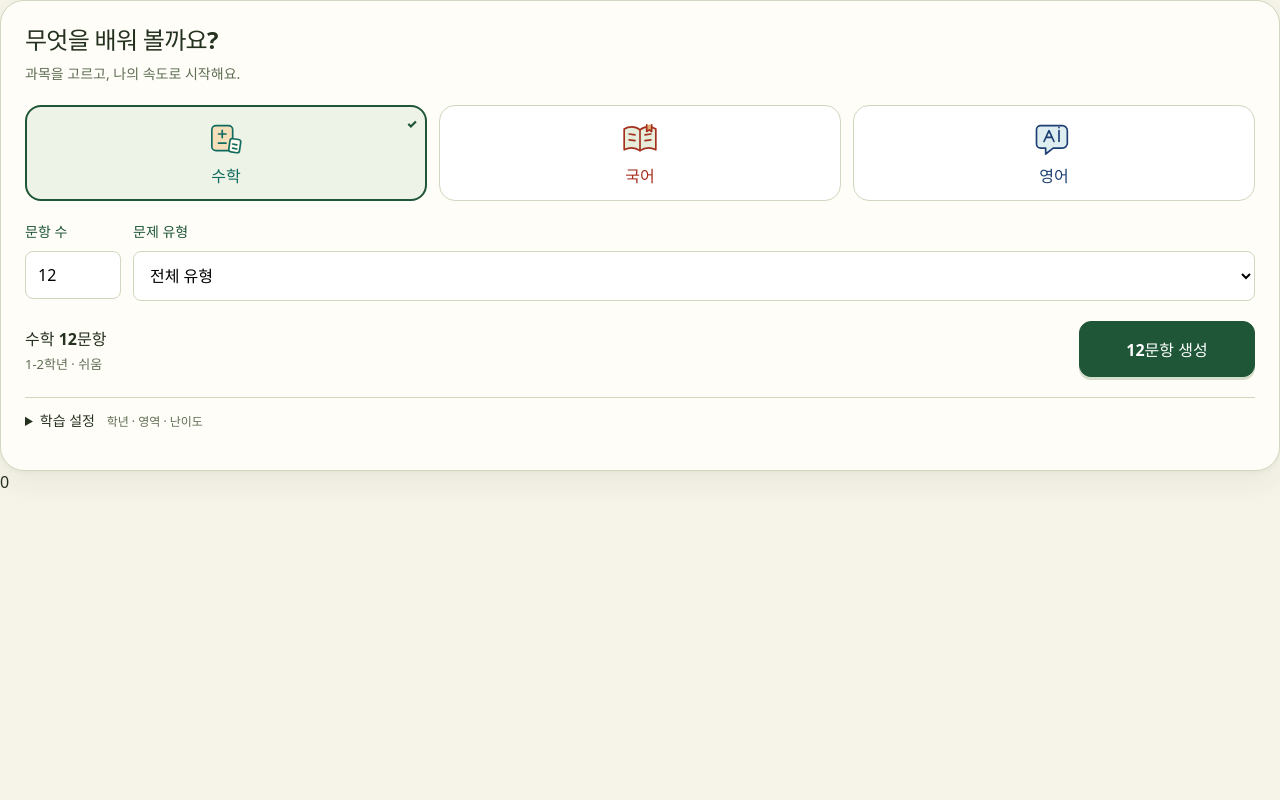
Test: settings use a closed native disclosure with twelve math questions and explicit large options
Expected: the element with class "dm-studio-settings" is shown, [25,397,1255,446]
What coordinates should you click on to do the following:
click the radio button labelled "국어"
I would click on:
 (640, 153)
Its box is [439,105,841,201].
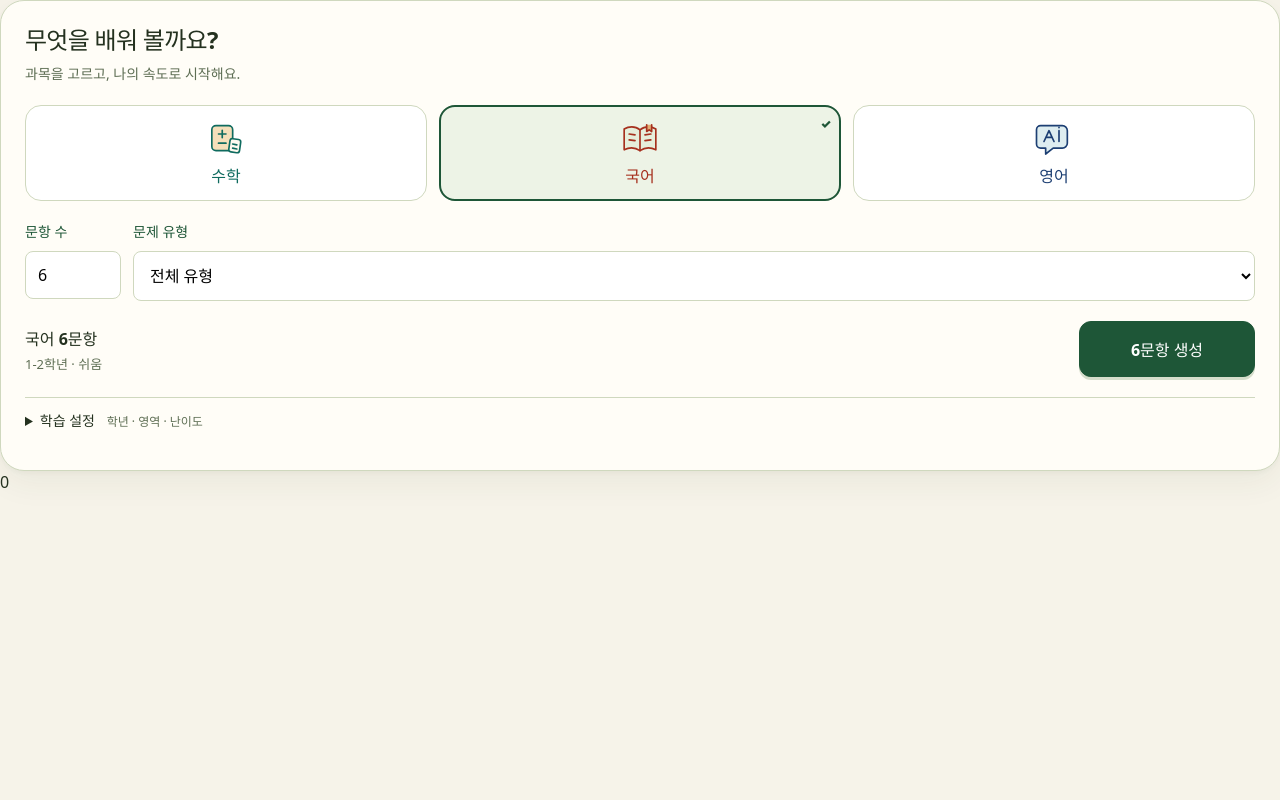
Expected: the number field labelled "문항 수" holds "6", [25,251,121,299]
What coordinates should you click on to do the following:
click the radio button labelled "영어"
I would click on:
 (1054, 153)
Its box is [853,105,1255,201].
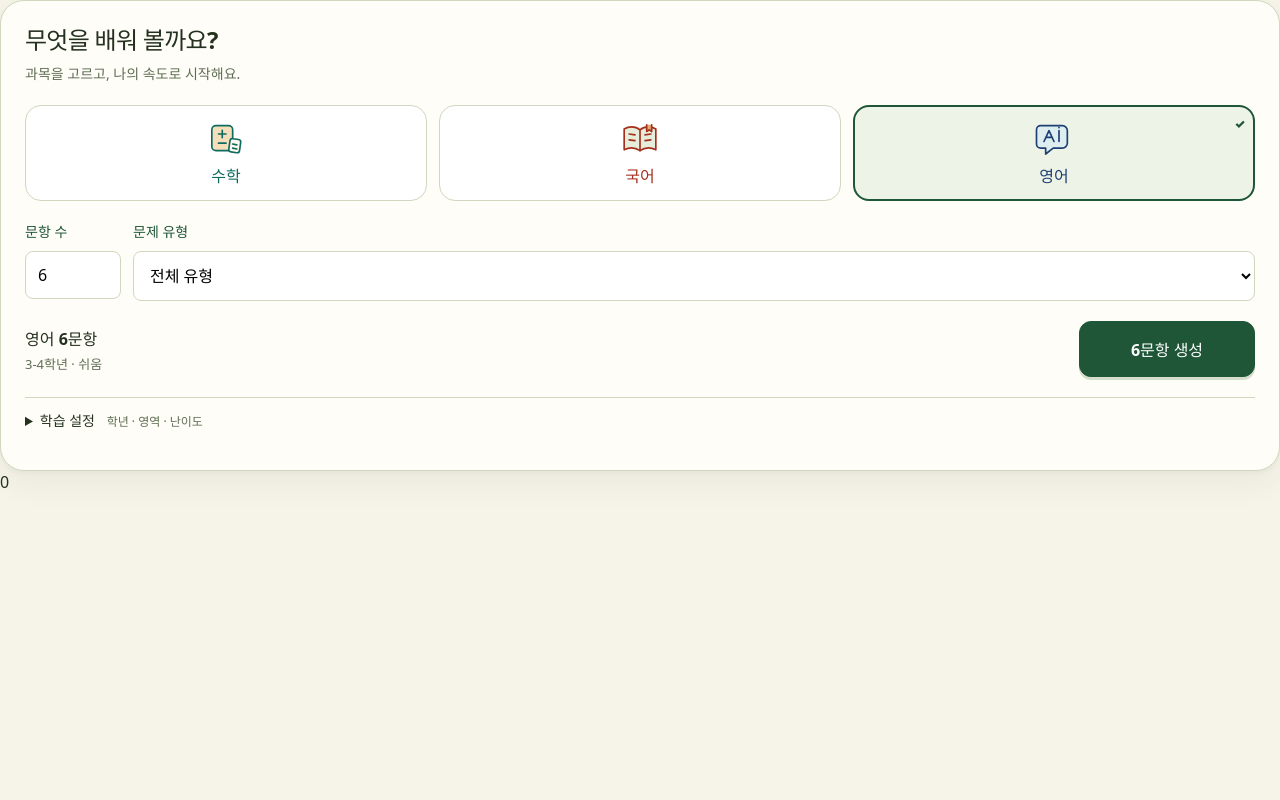
Expected: the number field labelled "문항 수" holds "6", [25,251,121,299]
What coordinates should you click on to do the following:
click the radio button labelled "수학"
I would click on:
 (226, 153)
Its box is [25,105,427,201].
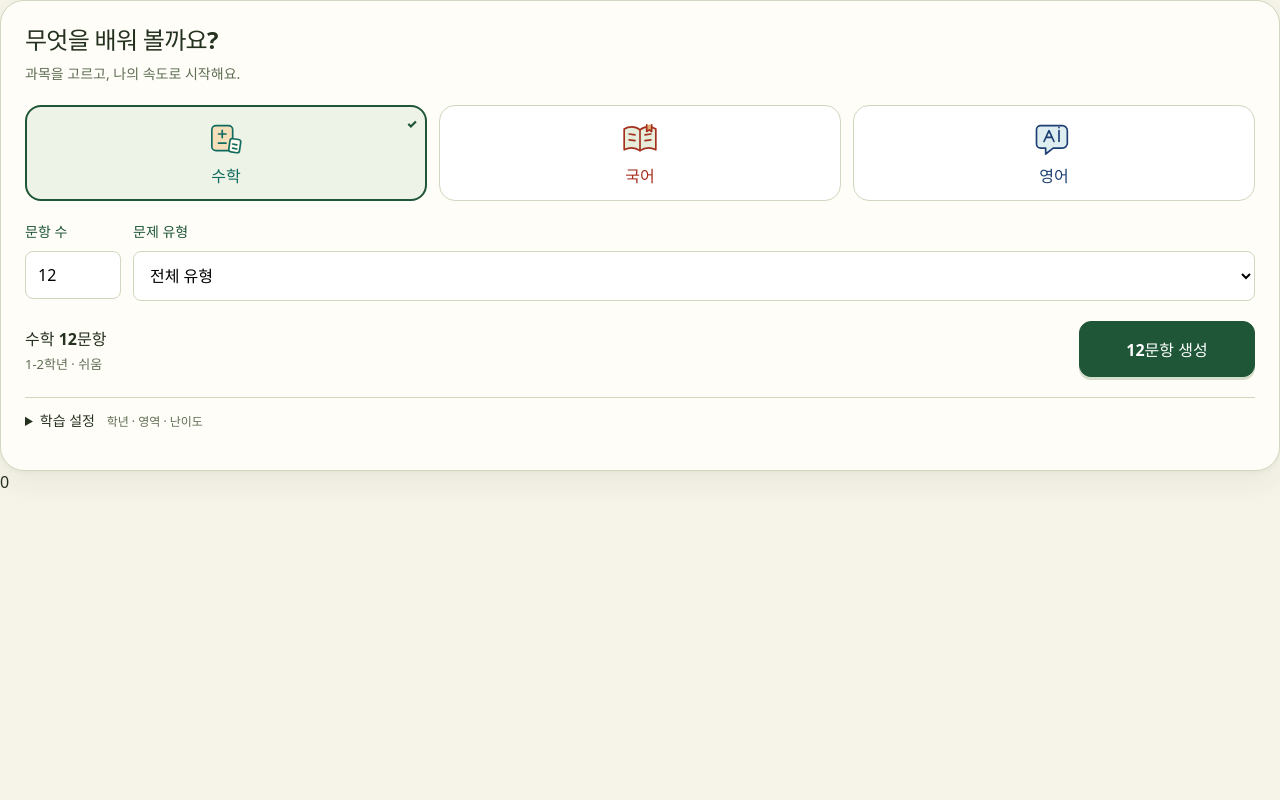
Expected: the number field labelled "문항 수" holds "12", [25,251,121,299]
What coordinates should you click on to do the following:
click the heading "학습 설정 학년 · 영역 · 난이도"
I would click on:
 (121, 421)
Its box is [40,411,203,430].
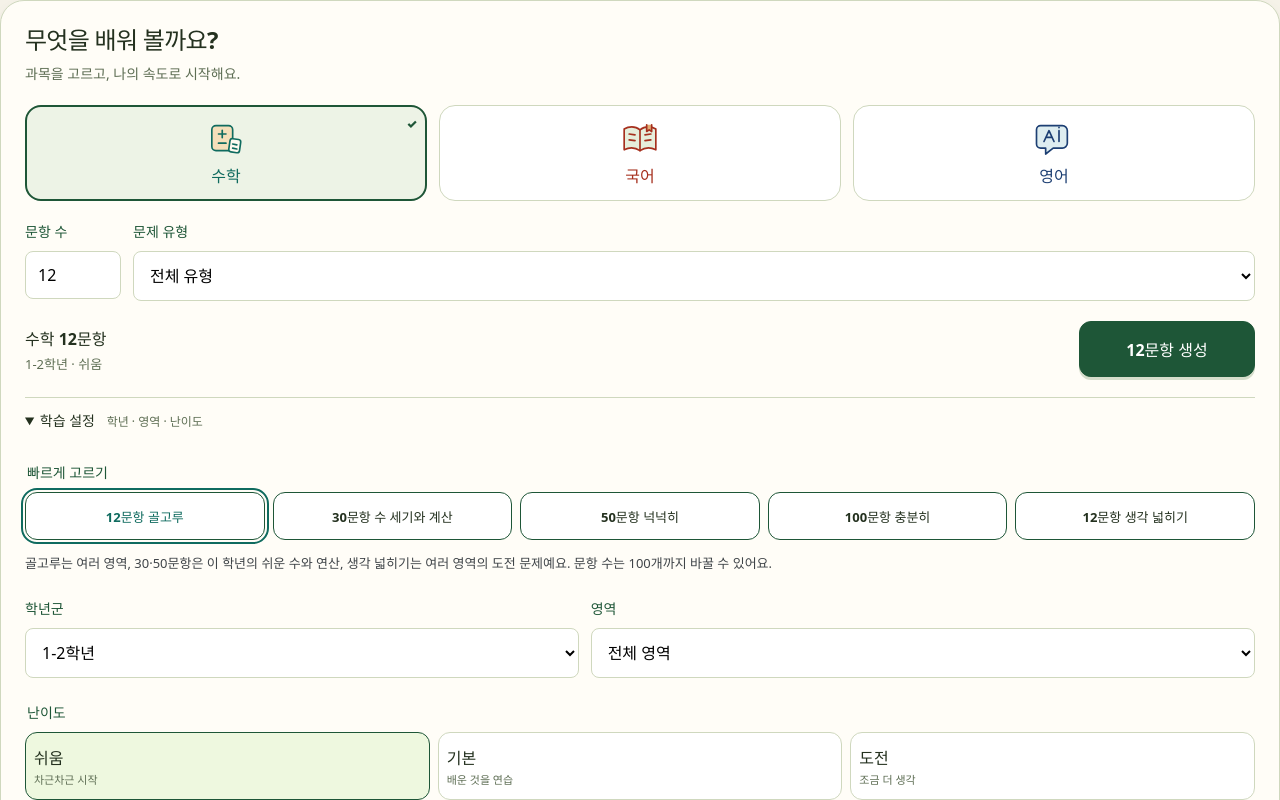
Expected: the dropdown labelled "학년군" is shown, [25,628,579,678]
Expected: the dropdown labelled "영역" is shown, [591,628,1255,678]
Expected: the button "30문항 수 세기와 계산" is shown, [273,492,512,540]
